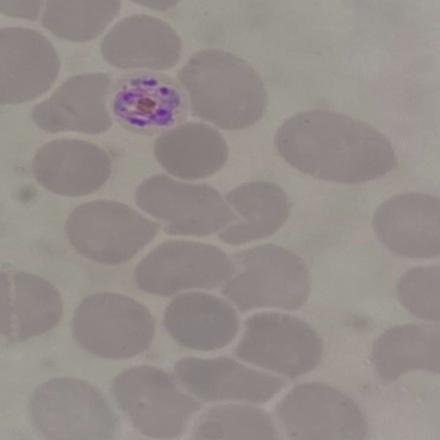Infected: (107, 65, 191, 141)
Uninfected: (276, 109, 395, 186), (180, 51, 266, 130), (138, 236, 239, 296), (113, 365, 190, 440), (68, 199, 160, 261), (146, 179, 243, 237), (31, 74, 118, 138), (222, 247, 307, 312), (27, 379, 117, 440), (278, 378, 364, 440), (238, 308, 317, 375), (71, 293, 151, 358), (0, 270, 65, 347), (176, 354, 284, 400), (154, 118, 230, 181), (223, 178, 288, 249), (0, 29, 64, 100), (103, 14, 182, 70), (162, 294, 242, 349), (33, 138, 113, 192), (376, 191, 440, 258)
